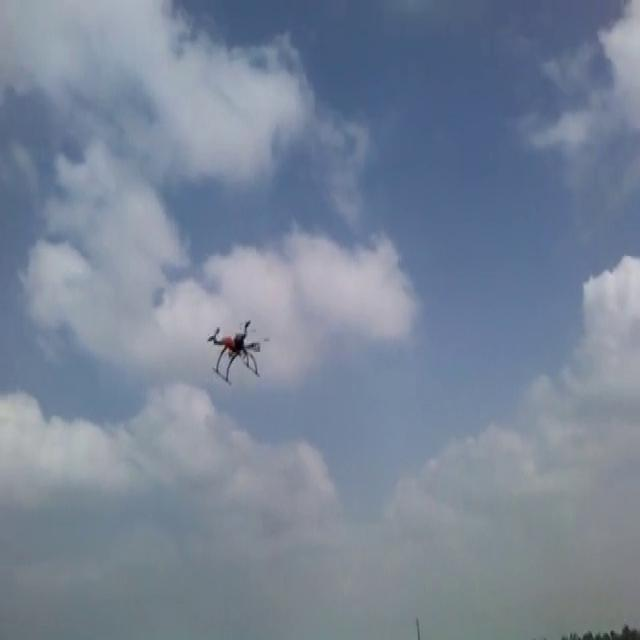drone: (205, 313, 266, 384)
